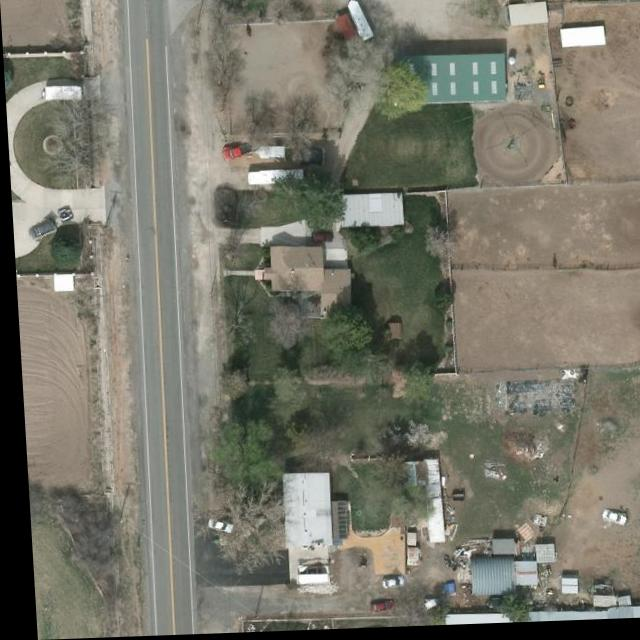vehicle: (23, 217, 55, 246), (219, 145, 252, 164), (413, 597, 445, 615), (592, 513, 622, 530), (200, 519, 229, 536), (373, 578, 400, 593), (361, 602, 387, 617), (308, 233, 333, 247)
